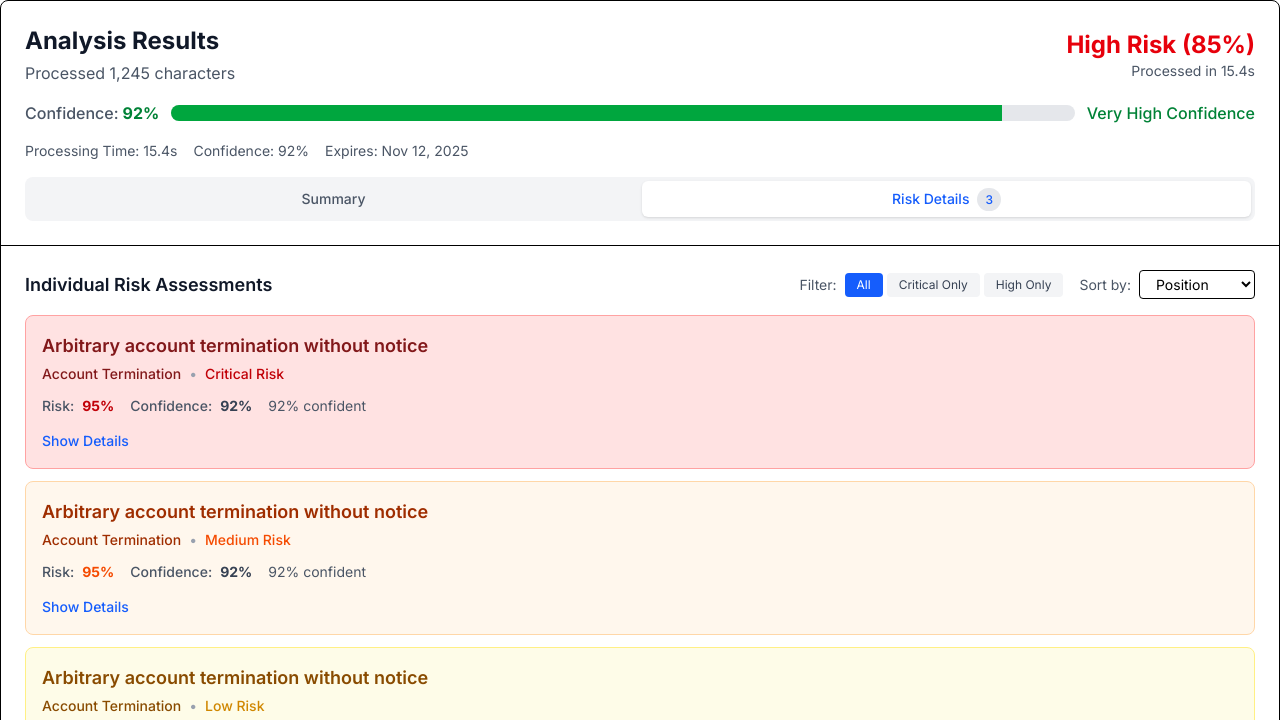
Test case: Analysis Display Components › ResultsViewer › should allow filtering by risk level
This screenshot has width=1280, height=720.
Click the button "Critical Only": [933, 284] box x1=887 y1=272 x2=980 y2=296
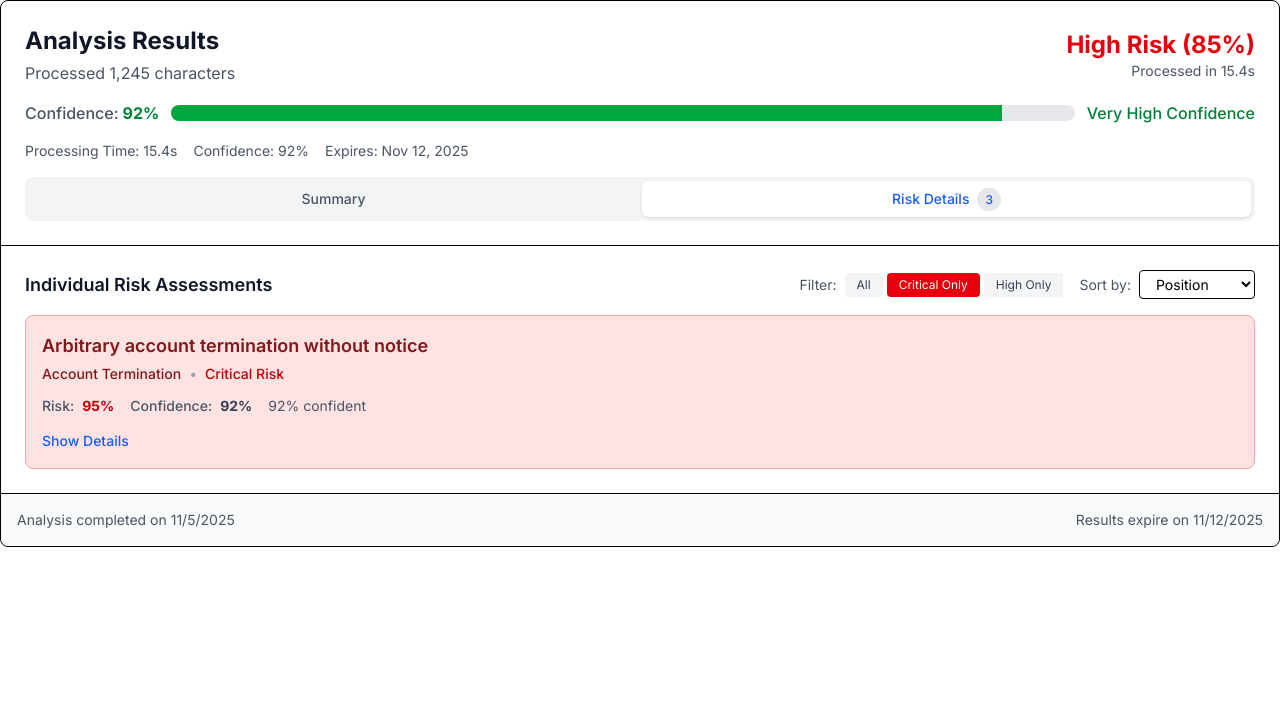
Check: the number of elements with test id "risk-assessment-card" is 1, box x1=25 y1=315 x2=1255 y2=469
